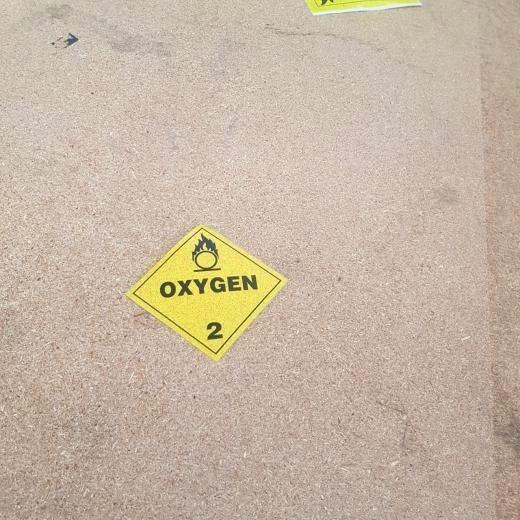oxidizer: (127, 225, 289, 361)
